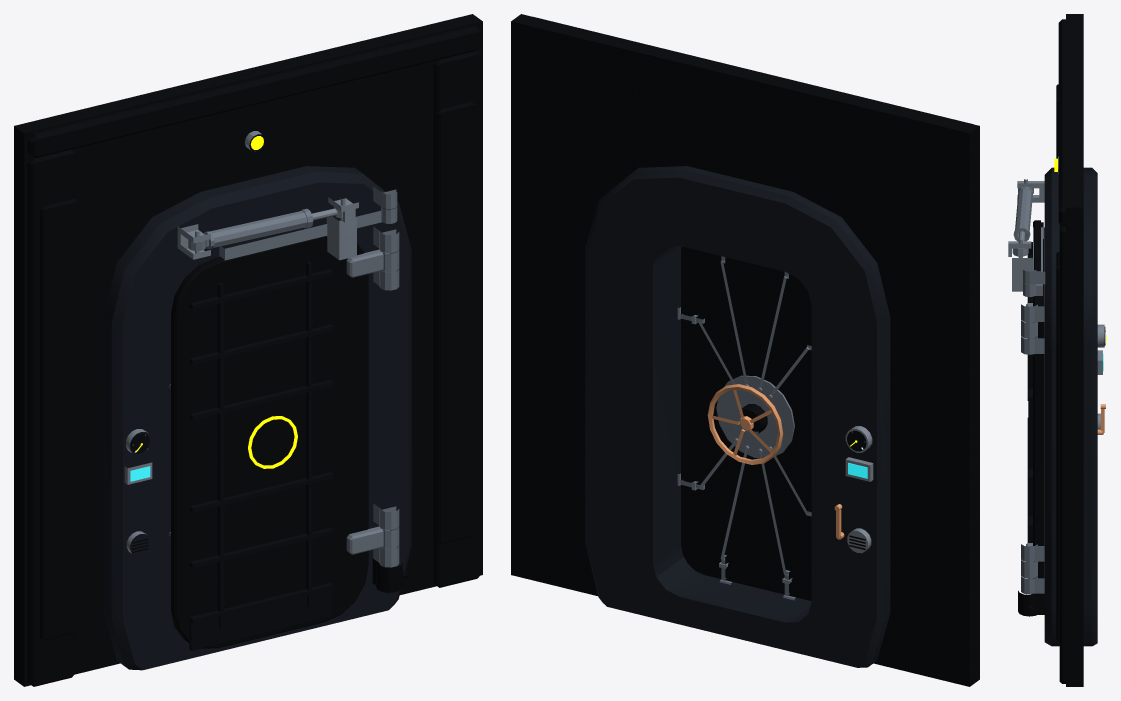
3 renders of one model, left to right at view 1: azimuth 30°, elevation 25°; view 2: azimuth 150°, elevation 25°; view 3: azimuth 270°, elevation 25°, orthographic. The views are drawn at different scales.
Visible parts, largest first — view 1: bulkhead_frame, bulkhead_leaf_shell, bulkhead_frame_collar, bulkhead_Rib_back, bulkhead_HingeHeavy_leaf, bulkhead_HingeHeavy_frame, bulkhead_Damper_body, bulkhead_Davit_arm, bulkhead_leaf_damper_mount, bulkhead_Actuator_housing, bulkhead_damper_mount; view 2: bulkhead_frame, bulkhead_frame_collar, bulkhead_leaf_shell, bulkhead_LockWheel, bulkhead_OverrideOrange_Handwheel; view 3: bulkhead_frame, bulkhead_frame_collar, bulkhead_leaf_shell, bulkhead_HingeHeavy_frame, bulkhead_Rib_back, bulkhead_Damper_body, bulkhead_leaf_damper_mount, bulkhead_HingeHeavy_leaf, bulkhead_Actuator_housing, bulkhead_Davit_arm, bulkhead_damper_mount, bulkhead_Gauge_housing_back (+3 smaller).
Boxes of the visible parts, left/top/right/bottom form: bulkhead_frame: left=14, top=14, right=482, bottom=686; bulkhead_leaf_shell: left=171, top=236, right=368, bottom=648; bulkhead_frame_collar: left=103, top=166, right=411, bottom=670; bulkhead_Rib_back: left=189, top=261, right=333, bottom=650; bulkhead_HingeHeavy_leaf: left=346, top=249, right=399, bottom=554; bulkhead_HingeHeavy_frame: left=373, top=226, right=399, bottom=567; bulkhead_Damper_body: left=188, top=208, right=313, bottom=250; bulkhead_Davit_arm: left=219, top=207, right=397, bottom=260; bulkhead_leaf_damper_mount: left=326, top=197, right=358, bottom=260; bulkhead_Actuator_housing: left=372, top=558, right=407, bottom=592; bulkhead_damper_mount: left=177, top=224, right=210, bottom=259; bulkhead_frame: left=511, top=14, right=979, bottom=686; bulkhead_frame_collar: left=585, top=166, right=890, bottom=667; bulkhead_leaf_shell: left=681, top=246, right=811, bottom=600; bulkhead_LockWheel: left=716, top=375, right=794, bottom=458; bulkhead_OverrideOrange_Handwheel: left=707, top=384, right=783, bottom=464; bulkhead_frame: left=1056, top=14, right=1083, bottom=686; bulkhead_frame_collar: left=1044, top=167, right=1097, bottom=646; bulkhead_leaf_shell: left=1033, top=220, right=1043, bottom=578; bulkhead_HingeHeavy_frame: left=1021, top=304, right=1044, bottom=594; bulkhead_Rib_back: left=1027, top=242, right=1032, bottom=578; bulkhead_Damper_body: left=1013, top=186, right=1033, bottom=241; bulkhead_leaf_damper_mount: left=1008, top=239, right=1033, bottom=291; bulkhead_HingeHeavy_leaf: left=1021, top=303, right=1037, bottom=578; bulkhead_Actuator_housing: left=1018, top=590, right=1044, bottom=616; bulkhead_Davit_arm: left=1023, top=227, right=1042, bottom=297; bulkhead_damper_mount: left=1017, top=179, right=1044, bottom=202; bulkhead_Gauge_housing_back: left=1097, top=324, right=1104, bottom=374.
Size of what is drawn, in the model's own units: 2.6 by 3 by 0.557.
Materials: 11 (5 with a texture image).
